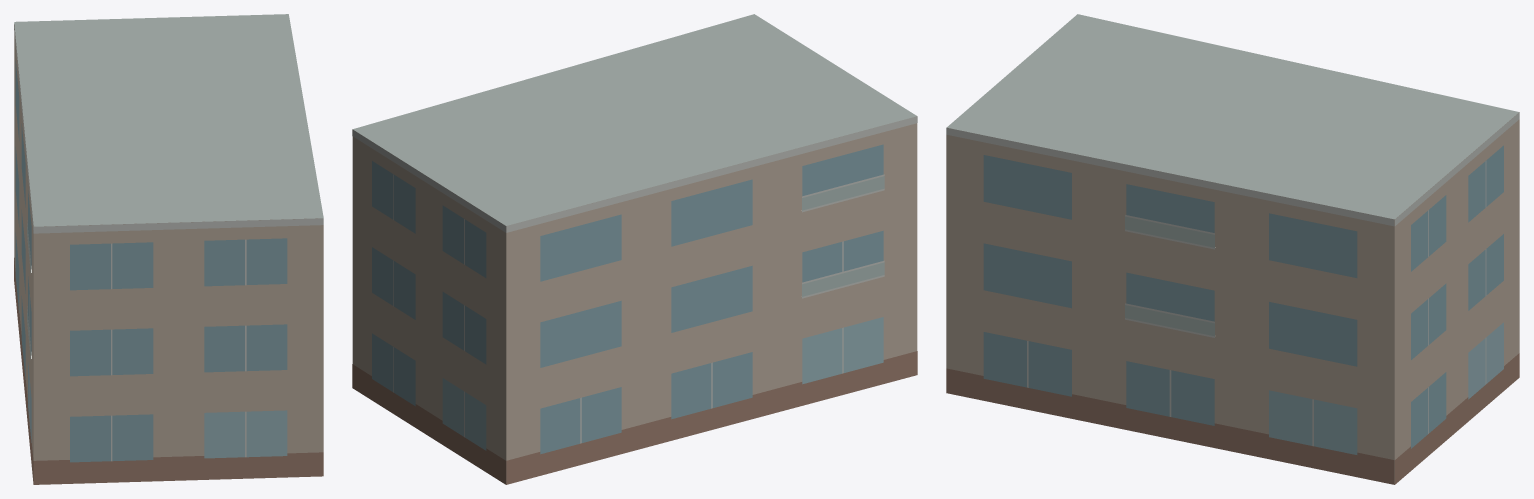
The model's file is survey-upis-32697996.glb.
The picture shows the model from 3 angles, left to right: view 1: azimuth 30°, elevation 25°; view 2: azimuth 150°, elevation 25°; view 3: azimuth 270°, elevation 25°; orthographic projection. The views are drawn at different scales.
Visible parts, largest first — view 1: survey-upis-32697996.tmp; view 2: survey-upis-32697996.tmp; view 3: survey-upis-32697996.tmp.
Part boxes in pixels (box(x1,y1,x2,y2)): survey-upis-32697996.tmp: box(14, 14, 323, 484); survey-upis-32697996.tmp: box(352, 14, 917, 484); survey-upis-32697996.tmp: box(946, 14, 1519, 484).
Size of the model in its own units: 15.19 by 9.15 by 17.91.
